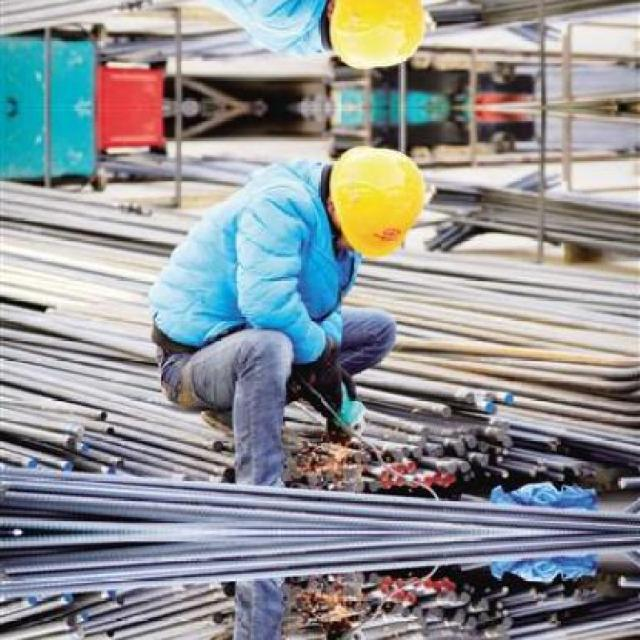helmet: (312, 132, 442, 255), (311, 0, 443, 82)
